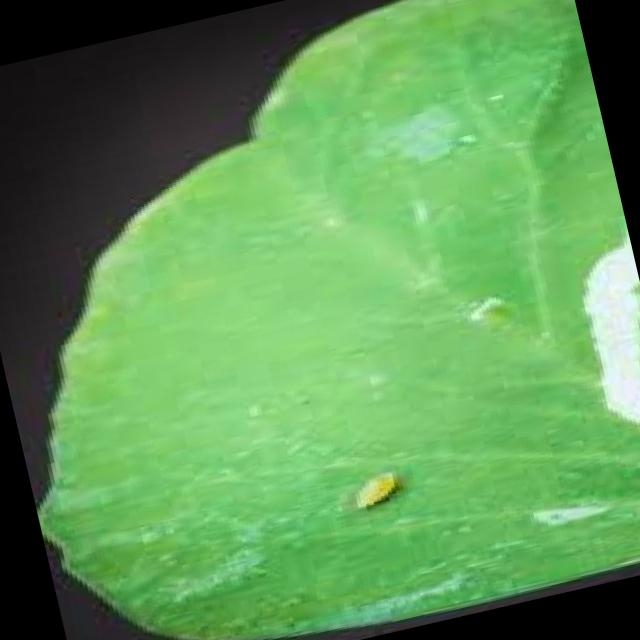aphid: (318, 454, 437, 524), (465, 85, 520, 116), (441, 128, 489, 158)
